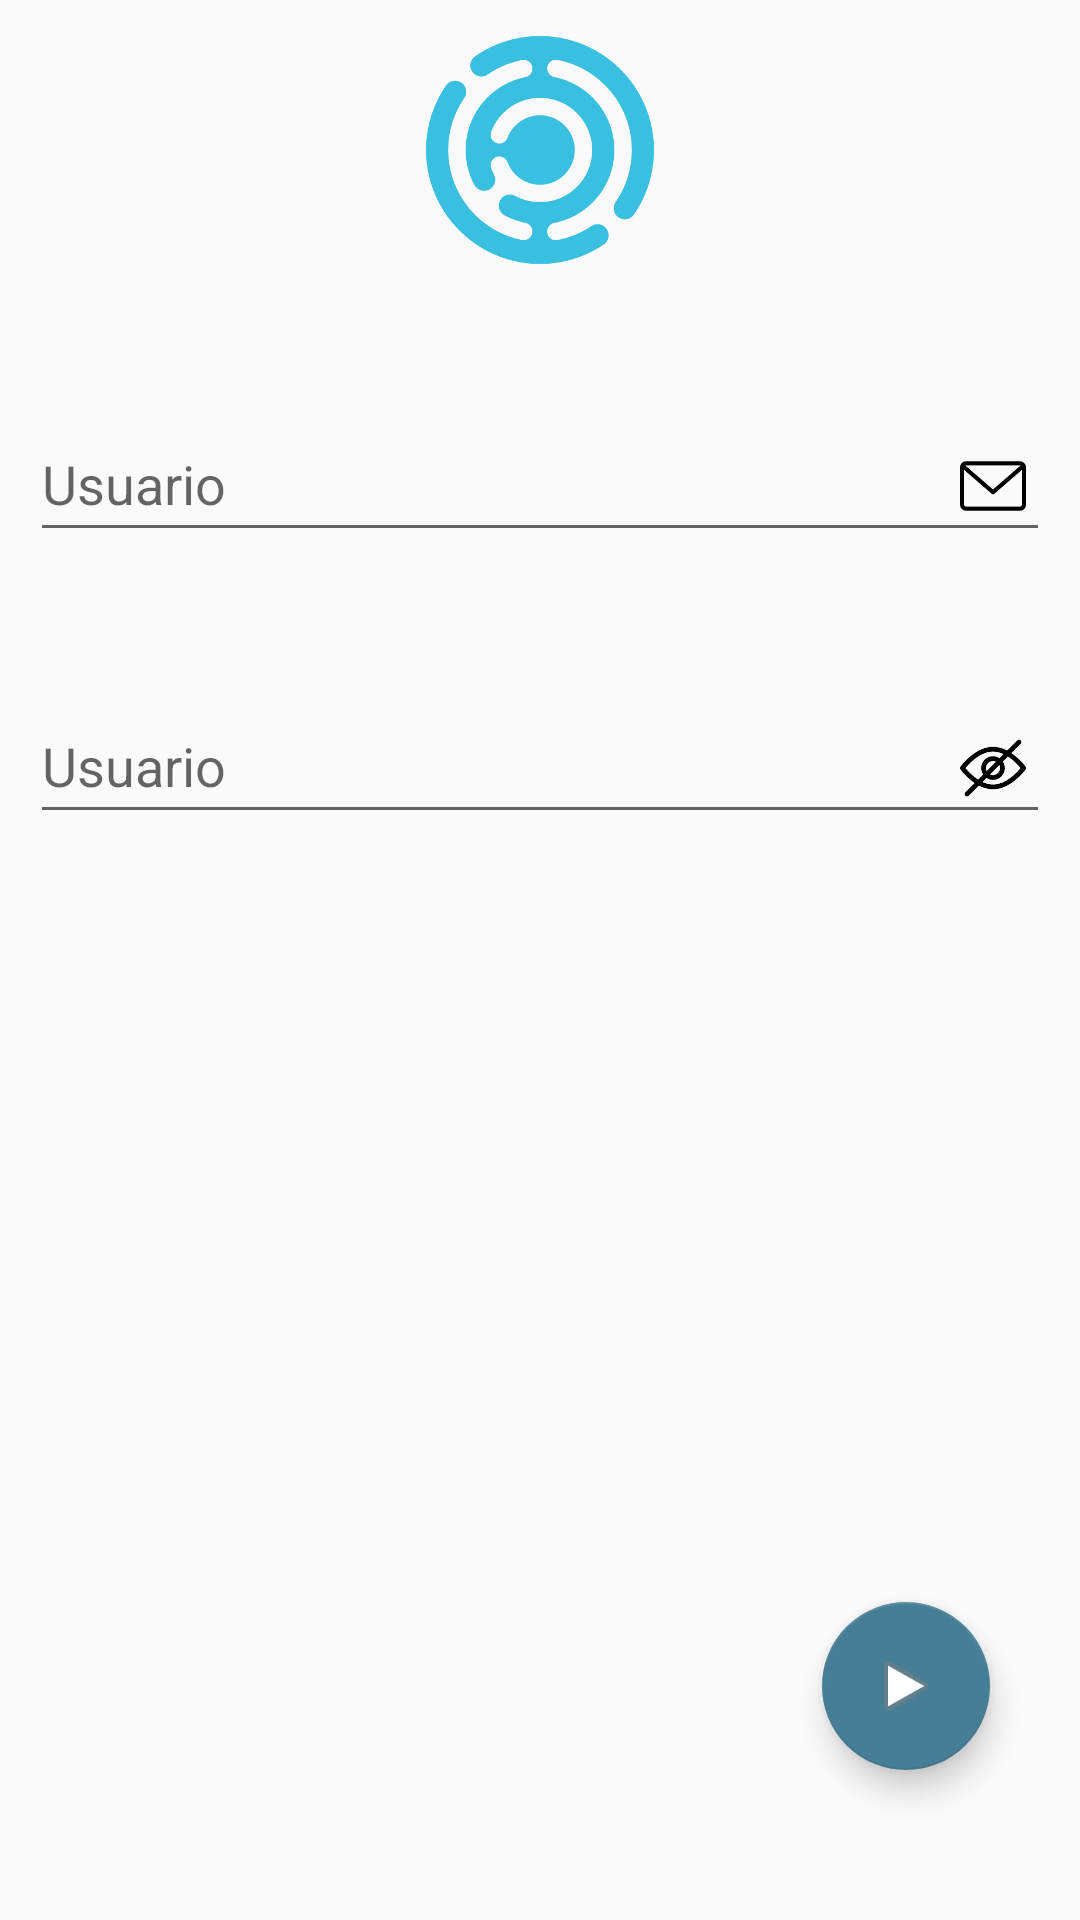

Screen size 1080w x 1920h. Icon name, then its box in pixels as [left=x1, top=y1, right=x2, bottom=y2]:
play: [left=822, top=1602, right=990, bottom=1770]
